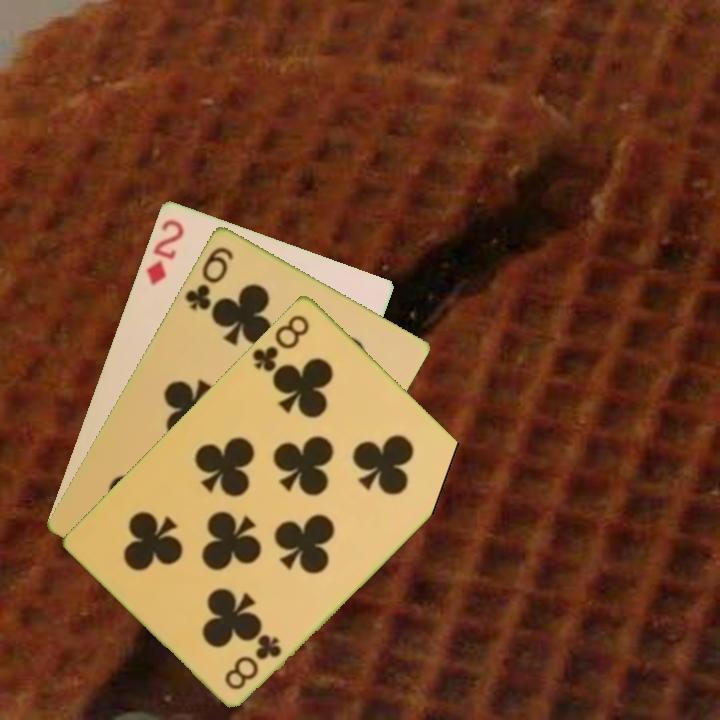2d: (142, 214, 187, 288)
6c: (181, 242, 237, 313)
8c: (248, 310, 312, 375), (221, 630, 285, 693)
